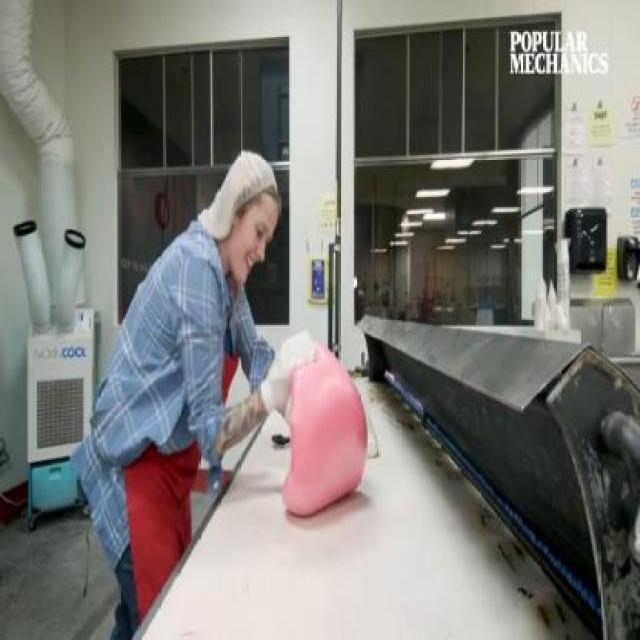gloved_hand: (250, 323, 334, 429)
